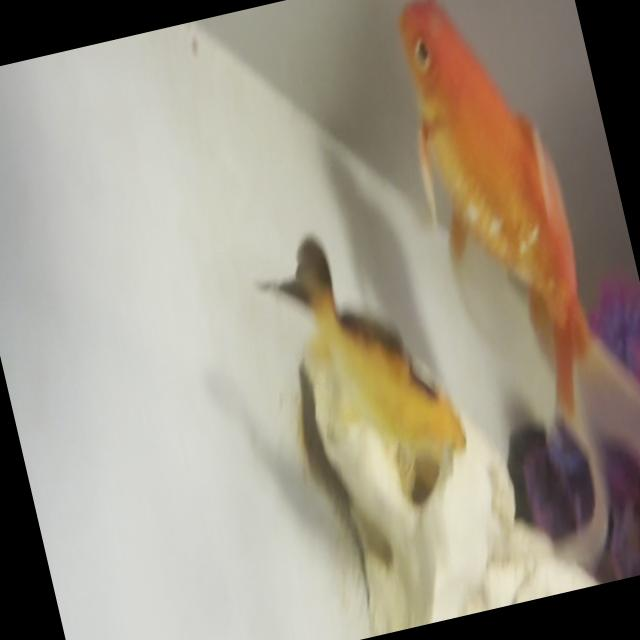fish: (377, 0, 640, 598), (250, 214, 482, 536)
